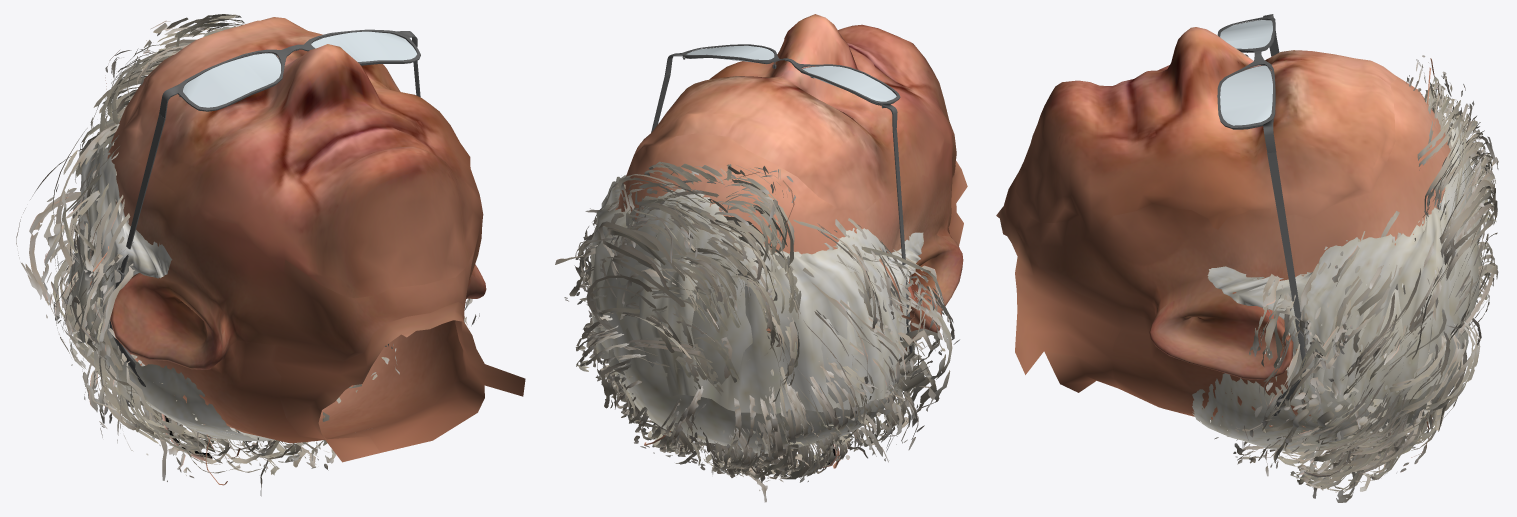
The model's file is buffett.dae.
The picture shows the model from 3 angles, left to right: view 1: azimuth 30°, elevation 25°; view 2: azimuth 150°, elevation 25°; view 3: azimuth 270°, elevation 25°; orthographic projection. The views are drawn at different scales.
Parts seen in each view (by area): view 1: head, Hair, Hair_low, glasses; view 2: head, Hair, Hair_low, glasses; view 3: head, Hair, Hair_low, glasses.
Boxes of the visible parts, box(x1,y1,x2,y2) form: head: box(107, 17, 525, 462); Hair: box(16, 14, 479, 496); Hair_low: box(67, 126, 274, 441); glasses: box(109, 29, 420, 386); head: box(615, 14, 967, 353); Hair: box(555, 161, 959, 502); Hair_low: box(589, 175, 923, 453); glasses: box(651, 44, 912, 360); head: box(996, 27, 1450, 430); Hair: box(1214, 55, 1498, 502); Hair_low: box(1192, 117, 1484, 451); glasses: box(1217, 14, 1305, 415).
Bounding box in the file's own units: 23.79 × 26.87 × 27.6.
